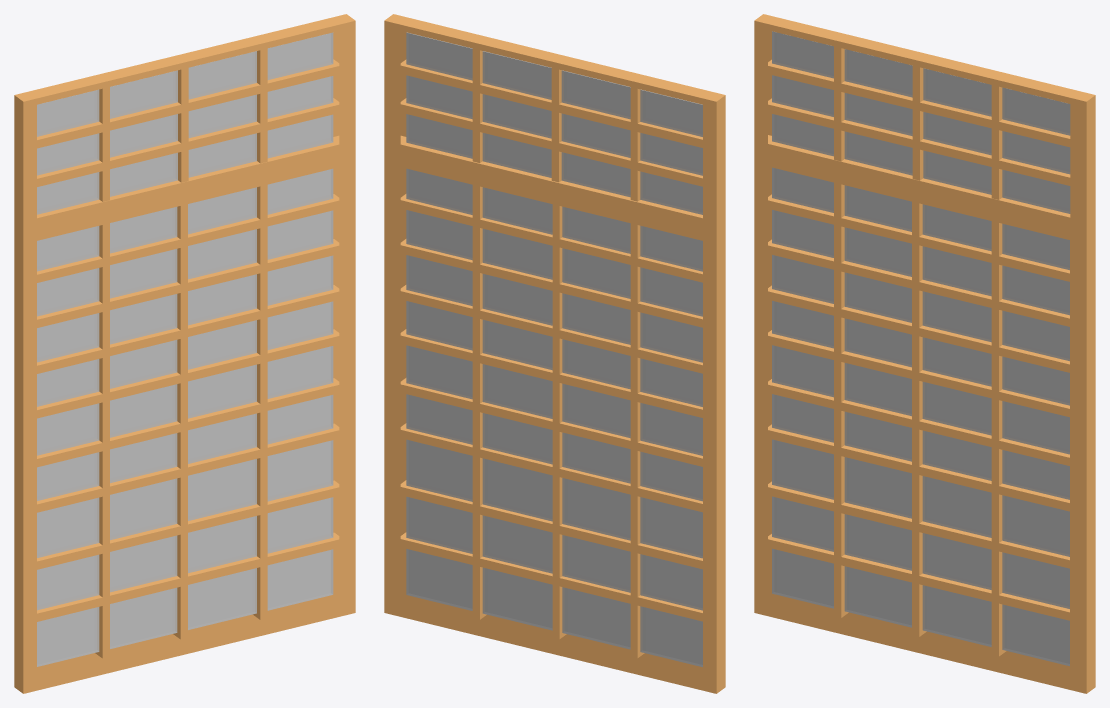
File: wall5.fbx
3 views of the same model, side by side, from view 1: azimuth 30°, elevation 25°; view 2: azimuth 150°, elevation 25°; view 3: azimuth 330°, elevation 25° (orthographic).
Visible parts, largest first — view 1: Cube.013, Cube.012, Cube.015, Cube.014, Cube.021, Cube.023, Cube.022, Cube.027, Cube.024, Cube.026, Cube.025, Cube.019 (+8 smaller); view 2: Cube.013, Cube.012, Cube.015, Cube.014, Cube.022, Cube.021, Cube.023, Cube.030, Cube.031, Cube.029, Cube.020, Cube.028 (+8 smaller); view 3: Cube.013, Cube.012, Cube.015, Cube.014, Cube.021, Cube.023, Cube.022, Cube.027, Cube.026, Cube.019, Cube.024, Cube.025 (+8 smaller).
Part boxes in pixels (x1=…): Cube.013: x1=37, y1=168, x2=333, y2=666; Cube.012: x1=14, y1=135, x2=355, y2=693; Cube.015: x1=37, y1=32, x2=333, y2=214; Cube.014: x1=14, y1=14, x2=355, y2=221; Cube.021: x1=253, y1=184, x2=267, y2=619; Cube.023: x1=95, y1=223, x2=109, y2=658; Cube.022: x1=173, y1=204, x2=187, y2=639; Cube.027: x1=37, y1=329, x2=339, y2=418; Cube.024: x1=37, y1=194, x2=339, y2=282; Cube.026: x1=37, y1=285, x2=339, y2=373; Cube.025: x1=37, y1=239, x2=339, y2=327; Cube.019: x1=37, y1=59, x2=339, y2=148; Cube.013: x1=406, y1=168, x2=702, y2=667; Cube.012: x1=384, y1=135, x2=725, y2=693; Cube.015: x1=406, y1=32, x2=702, y2=214; Cube.014: x1=384, y1=14, x2=725, y2=232; Cube.022: x1=552, y1=204, x2=566, y2=639; Cube.021: x1=472, y1=185, x2=486, y2=619; Cube.023: x1=630, y1=223, x2=644, y2=658; Cube.030: x1=400, y1=480, x2=702, y2=569; Cube.031: x1=400, y1=532, x2=702, y2=621; Cube.029: x1=400, y1=423, x2=702, y2=512; Cube.020: x1=400, y1=98, x2=702, y2=186; Cube.028: x1=400, y1=378, x2=702, y2=466; Cube.013: x1=772, y1=167, x2=1069, y2=666; Cube.012: x1=754, y1=135, x2=1095, y2=693; Cube.015: x1=772, y1=31, x2=1070, y2=213; Cube.014: x1=754, y1=14, x2=1095, y2=231; Cube.021: x1=991, y1=221, x2=1006, y2=656; Cube.023: x1=834, y1=182, x2=848, y2=617; Cube.022: x1=912, y1=201, x2=926, y2=636; Cube.027: x1=768, y1=330, x2=1069, y2=417; Cube.026: x1=768, y1=285, x2=1069, y2=372; Cube.019: x1=768, y1=59, x2=1070, y2=147; Cube.024: x1=768, y1=194, x2=1069, y2=281; Cube.025: x1=768, y1=239, x2=1069, y2=326.
Size of the model in its own units: 269 by 459 by 12.84.
